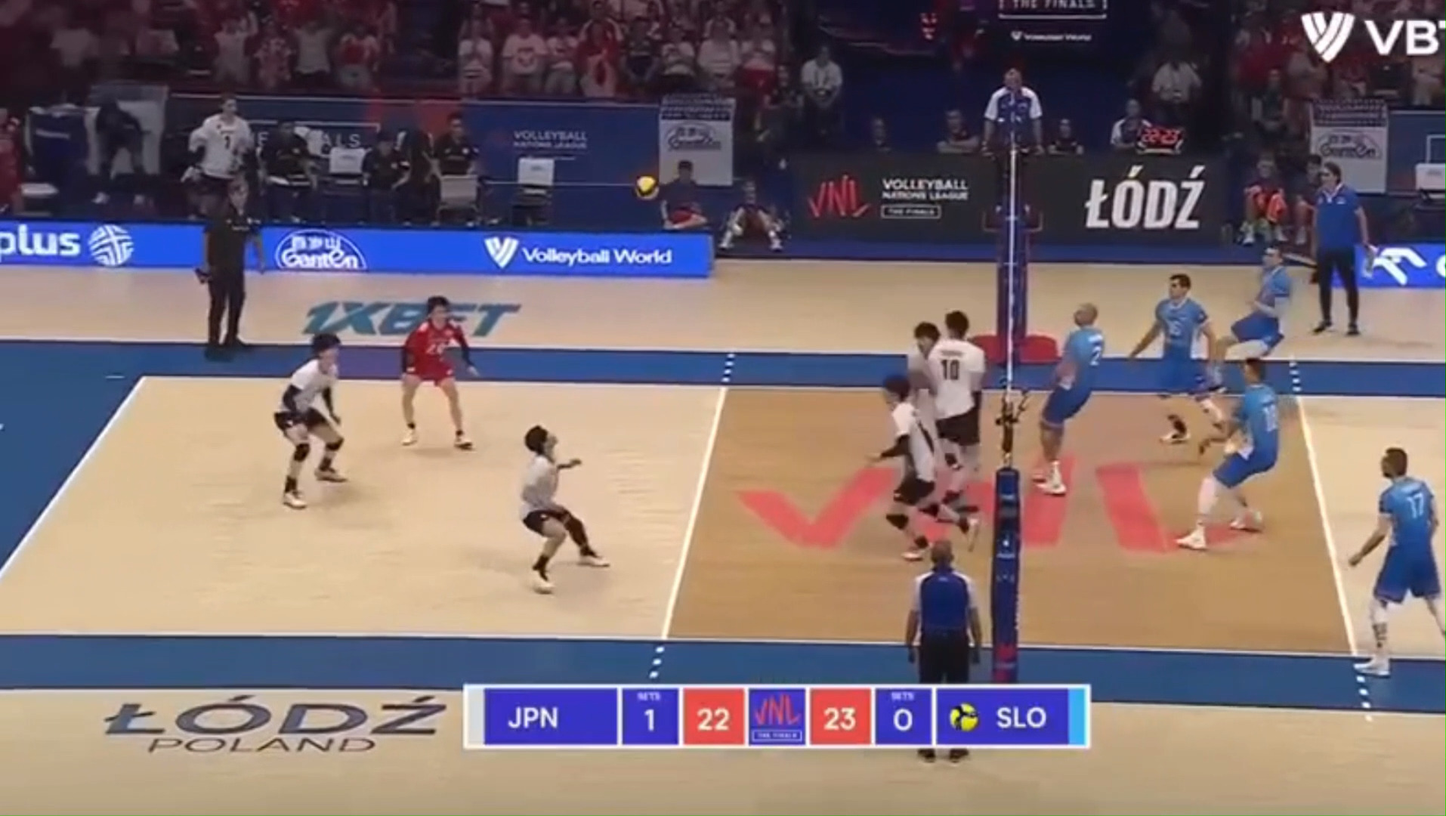ball: (634, 175, 660, 200)
player: (1349, 447, 1445, 677), (1176, 357, 1280, 551), (1128, 274, 1222, 424), (1034, 303, 1104, 496), (1212, 246, 1293, 389), (1160, 409, 1188, 444)
player 1: (875, 375, 970, 560), (519, 425, 609, 594), (273, 332, 346, 508), (923, 311, 987, 504), (401, 295, 475, 450), (907, 322, 940, 413)
referee: (196, 178, 263, 357), (904, 539, 981, 684), (1311, 162, 1370, 335), (983, 68, 1043, 228)
